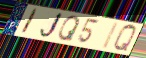5: (76, 17, 100, 46)
I: (100, 21, 121, 51), (19, 7, 40, 35)
J: (38, 11, 64, 40)
Q: (112, 24, 137, 54), (57, 15, 82, 42)
